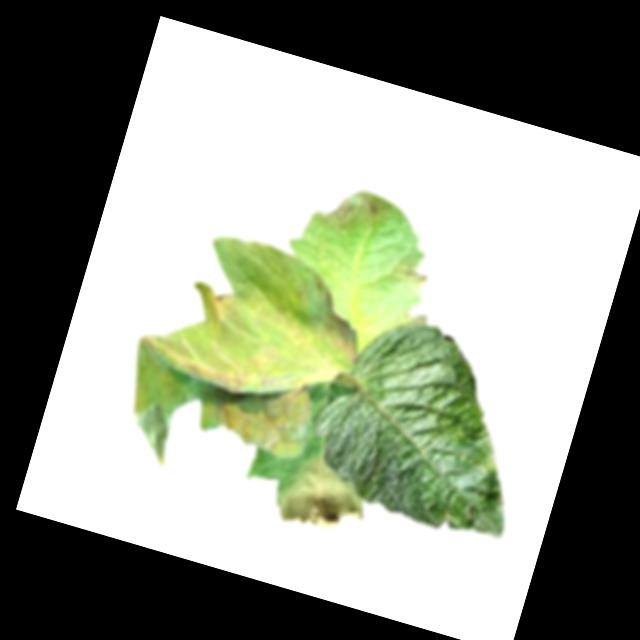Late_blight: (198, 358, 321, 463), (273, 448, 378, 547), (298, 280, 374, 365), (310, 178, 386, 246), (202, 285, 240, 324), (401, 267, 429, 288)
healthy: (298, 302, 555, 548)
